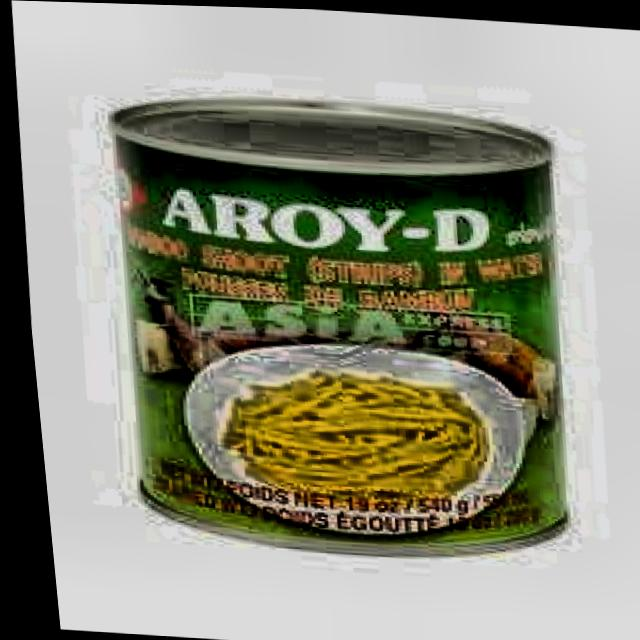Cans: (71, 63, 614, 579)
